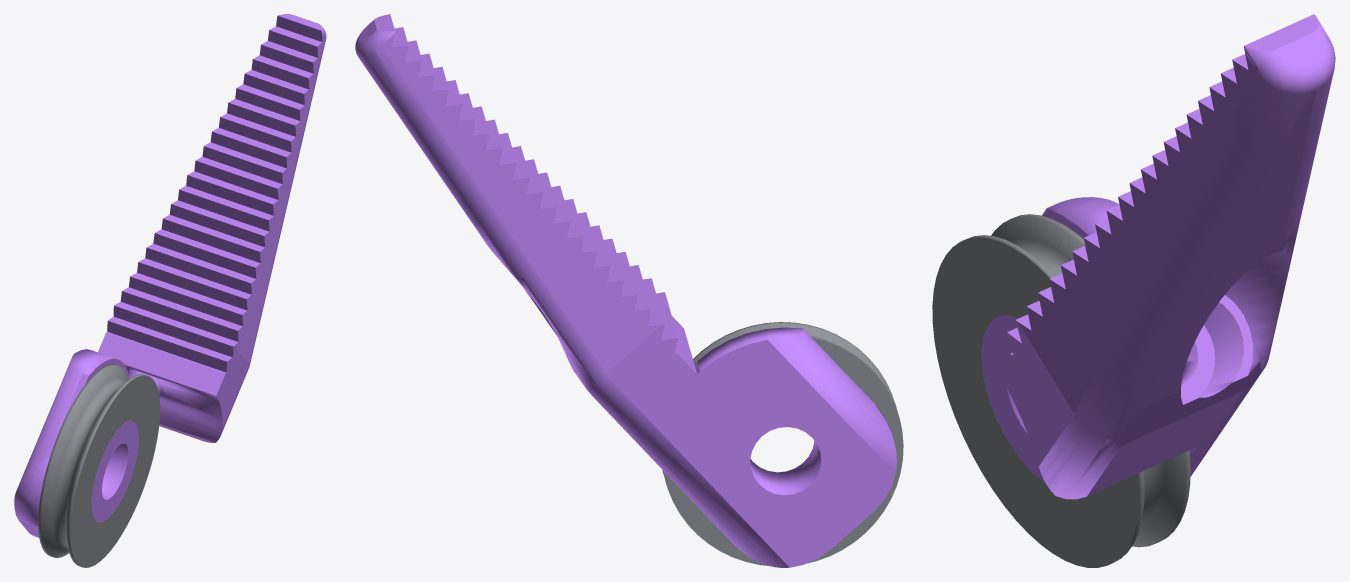
Rendered from grasper_1_blender.dae.
3 renders of one model, left to right at view 1: azimuth 30°, elevation 25°; view 2: azimuth 150°, elevation 25°; view 3: azimuth 270°, elevation 25°, orthographic. The views are drawn at different scales.
Parts seen in each view (by area): view 1: Actor1, Actor0; view 2: Actor1, Actor0; view 3: Actor1, Actor0.
Part boxes in pixels (box(x1,y1,x2,y2)): Actor1: box(14, 14, 326, 537); Actor0: box(38, 364, 160, 567); Actor1: box(355, 14, 896, 567); Actor0: box(662, 322, 903, 565); Actor1: box(981, 14, 1335, 499); Actor0: box(932, 214, 1190, 567).
Size of the model in its own units: 0.0183 by 0.00963 by 0.0199.
